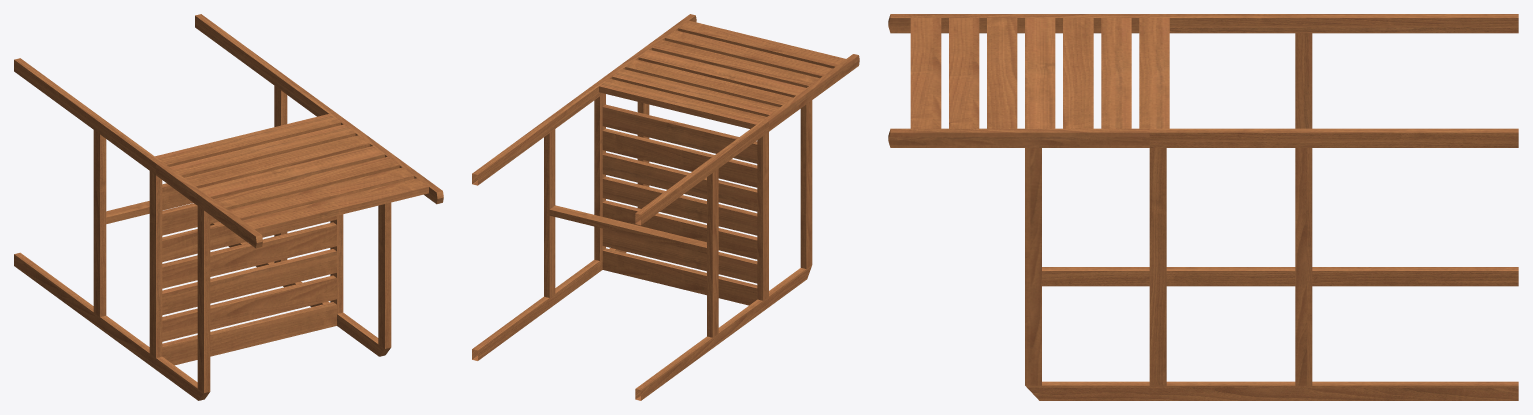
File: Pool Chair for Short People.fbx
The picture shows the model from 3 angles, left to right: view 1: azimuth 30°, elevation 25°; view 2: azimuth 150°, elevation 25°; view 3: azimuth 270°, elevation 25°; orthographic projection. The views are drawn at different scales.
Visible parts, largest first — view 1: Pool_Chair; view 2: Pool_Chair; view 3: Pool_Chair.
Boxes of the visible parts, x1,y1,x2,y2 form: Pool_Chair: (14,14,443,400); Pool_Chair: (472,14,859,400); Pool_Chair: (888,14,1518,400).
Size of the model in its own units: 114 by 120 by 256.
1 material, 1 textured.
